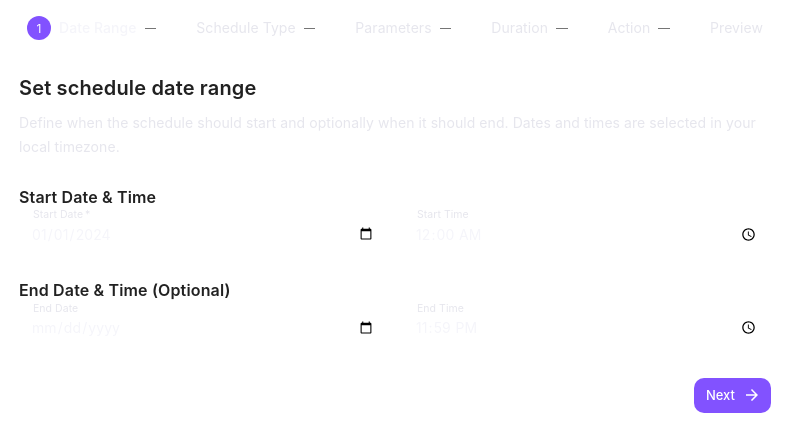
it: ScheduleBuilder › Stepper Navigation › navigates to next step when Next button is clicked
Fill required field for step 0 - look for date input
In the date field labelled "End Date": (203, 328) 19,310 -> 387,346, type "2024-01-01"
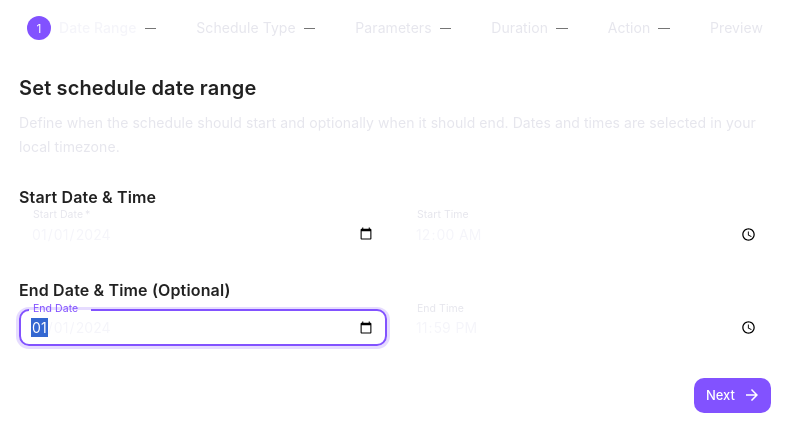
Click the button "Next": (732, 395) 694,378 -> 771,413
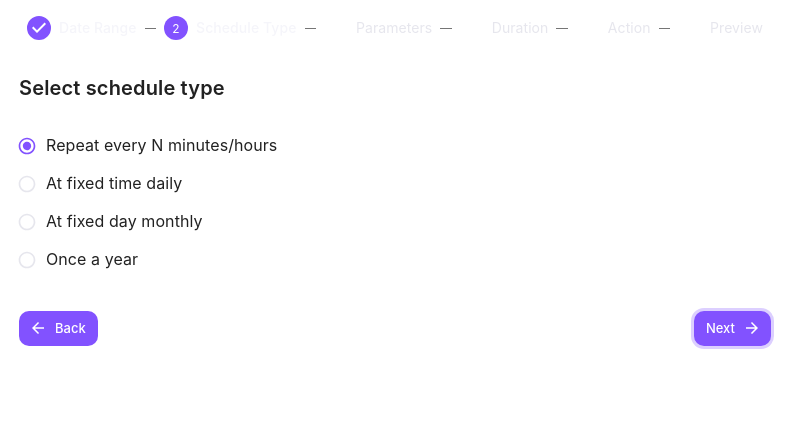
Check: the button "Back" is shown, box 19,311 -> 98,346
